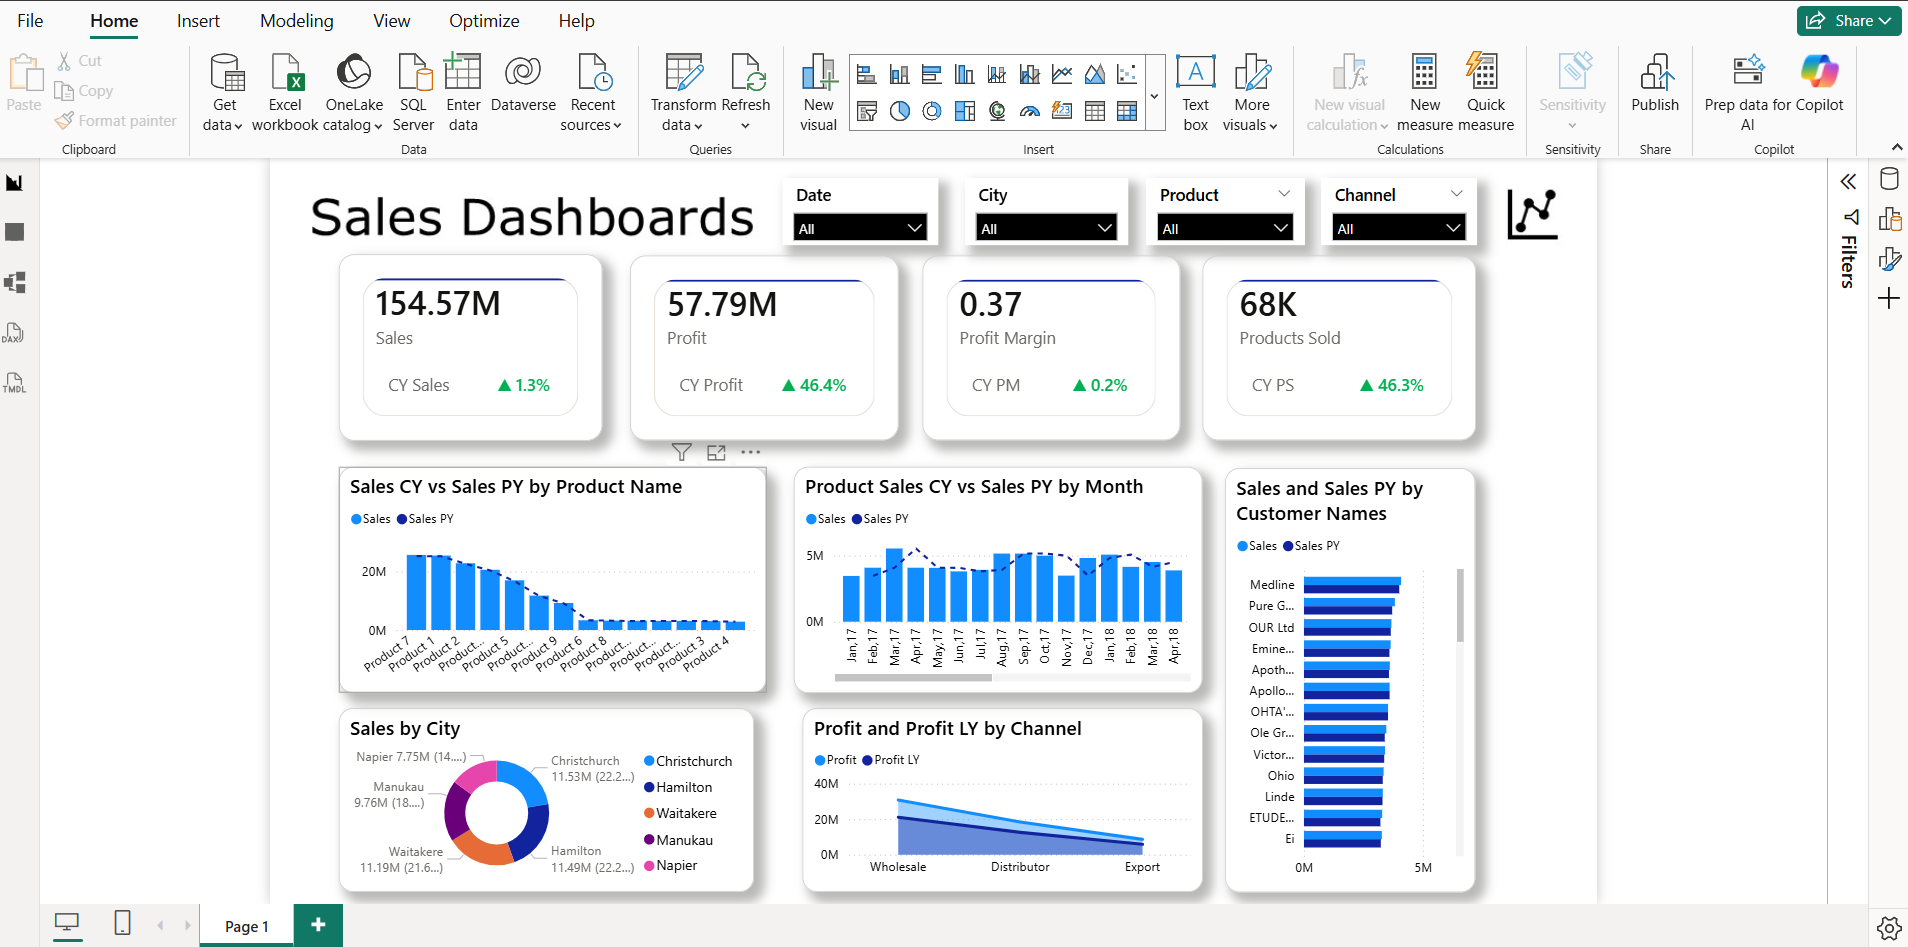

The dashboard page shown, as its layout file describes it:
{"tool":"powerbi","page":{"name":"Page 1","canvas":[1280,720],"ordinal":0},"visuals":[{"type":"slicer","fields":{"Values":["DateTable.Year","DateTable.Month Short Name Plus Year"]},"box":[494.1,18.8,150,65],"z":0},{"type":"slicer","fields":{"Values":["Regions_Table.City"]},"box":[670.4,19,157.5,65],"z":1000},{"type":"slicer","fields":{"Values":["Products_Data.Product Name"]},"box":[845.4,19,152.5,65],"z":2000},{"type":"slicer","fields":{"Values":["Sales_Data.Channel"]},"box":[1014.1,19,150,65],"z":3000},{"type":"lineStackedColumnComboChart","title":"Sales CY vs Sales PY by Product Name","fields":{"Category":["Products_Data.Product Name"],"Y":["Measure Table.Sales"],"Y2":["Measure Table.Sales PY"]},"box":[66.4,298,412.6,218.4],"z":4000},{"type":"lineClusteredColumnComboChart","title":"Product Sales CY vs Sales PY by Month","fields":{"Y":["Measure Table.Sales1"],"Y2":["Measure Table.Sales PY1"],"Category":["DateTable.Month Short Name Plus Year"]},"box":[505.5,298,394.5,218.4],"z":5000},{"type":"donutChart","fields":{"Y":["Measure Table.Sales"],"Category":["Regions_Table.City"]},"box":[66.4,530.8,400.5,177.3],"z":6000},{"type":"areaChart","fields":{"Category":["Sales_Data.Channel"],"Y":["Measure Table.Profit","Measure Table.Profit LY"]},"box":[513.9,530.8,386.1,177.3],"z":7000},{"type":"clusteredBarChart","fields":{"Y":["Measure Table.Sales","Measure Table.Sales PY"],"Category":["Customer_Data.Customer Names"]},"box":[921.6,298.7,241.8,409.6],"z":8000},{"type":"cardVisual","title":"Sales","fields":{"Data":["Sum(Sales_Data.Sales)"]},"box":[66.4,92.9,254.6,179.8],"z":10000},{"type":"cardVisual","title":"Sales","fields":{"Data":["Measure Table.Profit"]},"box":[347.5,94.1,259.4,178.6],"z":11000},{"type":"cardVisual","title":"Sales","fields":{"Data":["Measure Table.Profit Margin"]},"box":[629.8,94.1,248.5,178.6],"z":12000},{"type":"cardVisual","title":"Sales","fields":{"Data":["Measure Table.Products Sold"]},"box":[900,94.1,264.2,178.6],"z":13000}]}

Visuals, with their boxes on the page's 1280x720 design canvas (x1, y1, x2, y2). These are canvas units, not pixel positions in the 1908x947 screenshot, which may show the page scaled, cropped or inside an application window:
slicer - DateTable.Year x DateTable.Month Short Name Plus Year: (494, 19, 644, 84)
slicer - Regions_Table.City: (670, 19, 828, 84)
slicer - Products_Data.Product Name: (845, 19, 998, 84)
slicer - Sales_Data.Channel: (1014, 19, 1164, 84)
"Sales CY vs Sales PY by Product Name" lineStackedColumnComboChart: (66, 298, 479, 516)
"Product Sales CY vs Sales PY by Month" lineClusteredColumnComboChart: (506, 298, 900, 516)
donutChart - Measure Table.Sales x Regions_Table.City: (66, 531, 467, 708)
areaChart - Sales_Data.Channel x Measure Table.Profit: (514, 531, 900, 708)
clusteredBarChart - Measure Table.Sales x Measure Table.Sales PY: (922, 299, 1163, 708)
"Sales" cardVisual: (66, 93, 321, 273)
"Sales" cardVisual: (348, 94, 607, 273)
"Sales" cardVisual: (630, 94, 878, 273)
"Sales" cardVisual: (900, 94, 1164, 273)
